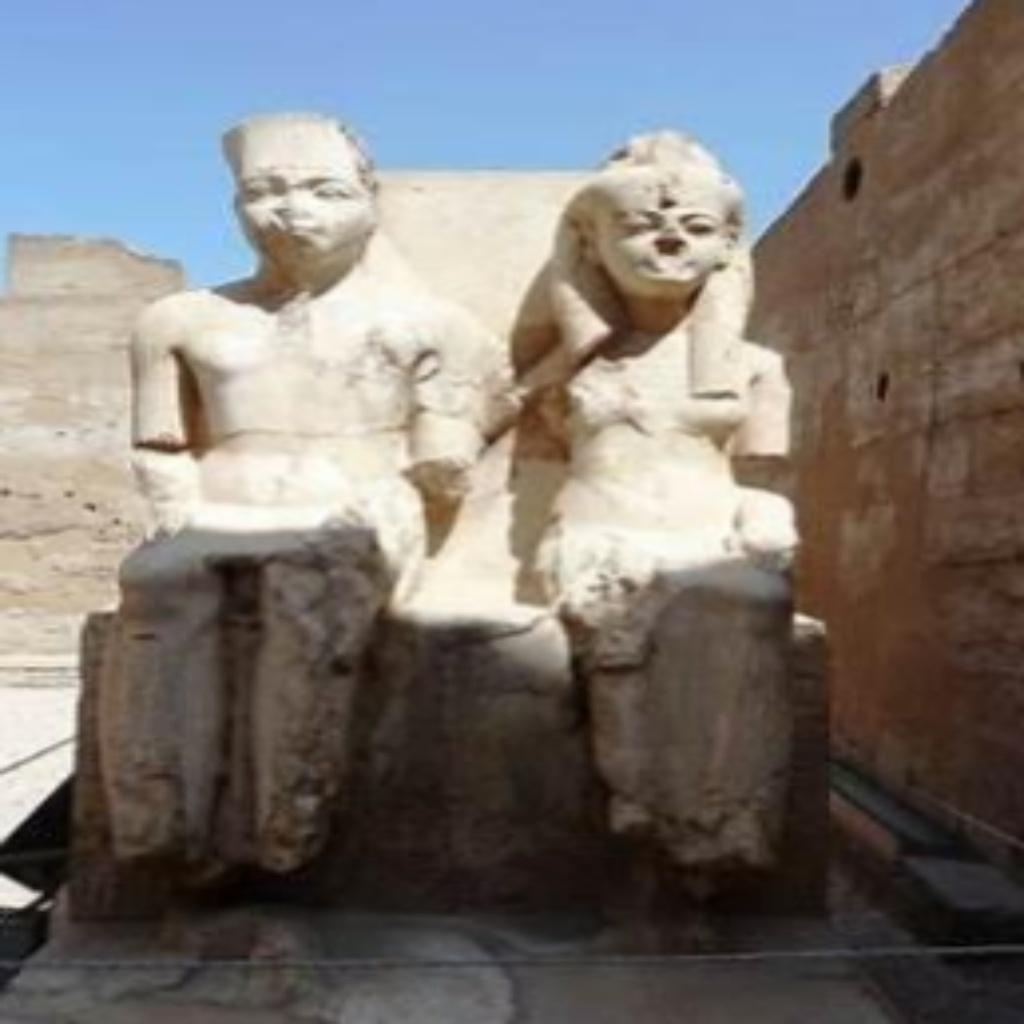Statue of Ankhesenamun: (512, 122, 806, 881)
Statue of Tutankhamun: (84, 101, 476, 881)
